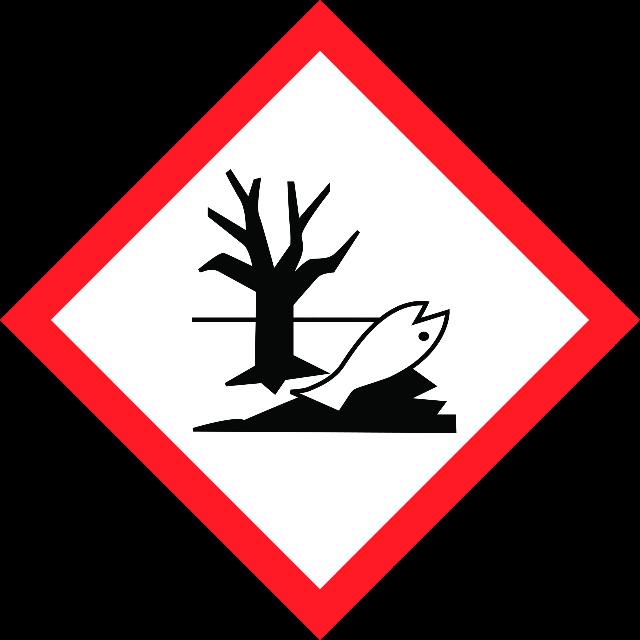hazardous to the environment: (1, 1, 640, 640)
